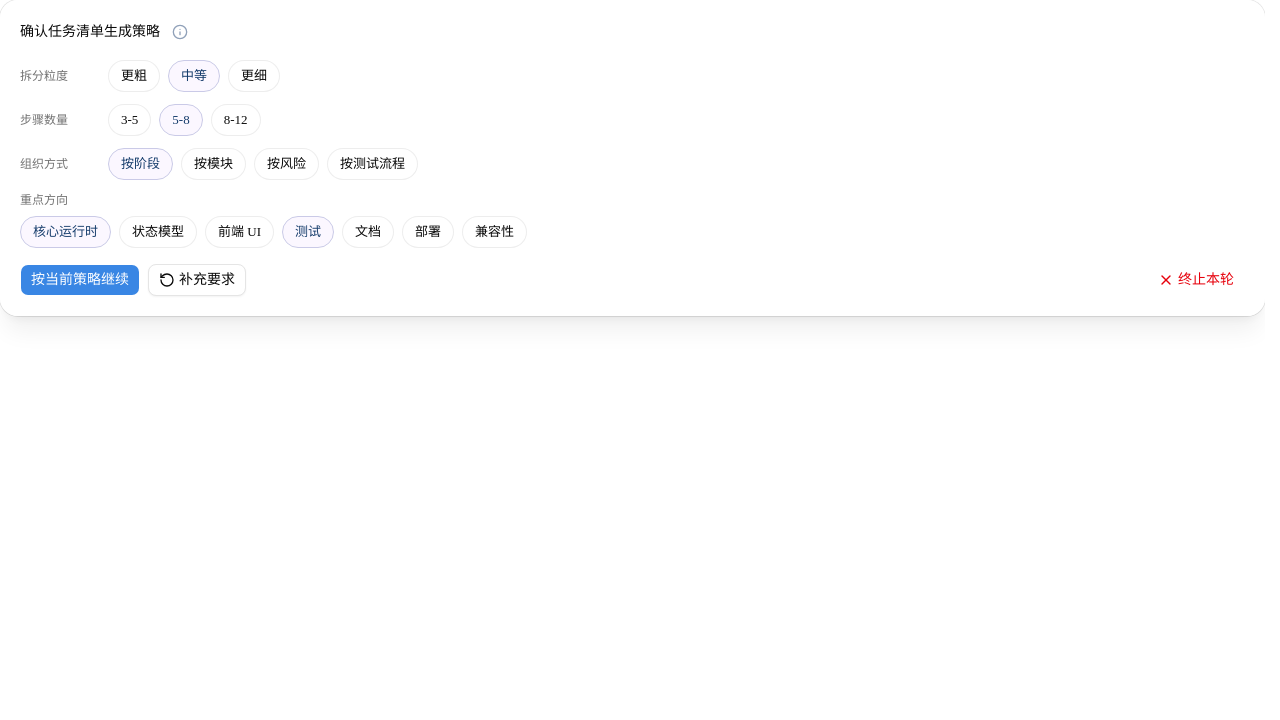
Test: HumanReviewComposerPanel › Strategy Review notes 通过信息图标展示
The width and height of the screenshot is (1280, 720).
Expected: the text "优先保留 stream/artifact 兼容。" is not shown
Click the button named "查看策略说明" at (180, 32), box x1=168 y1=20 x2=192 y2=44
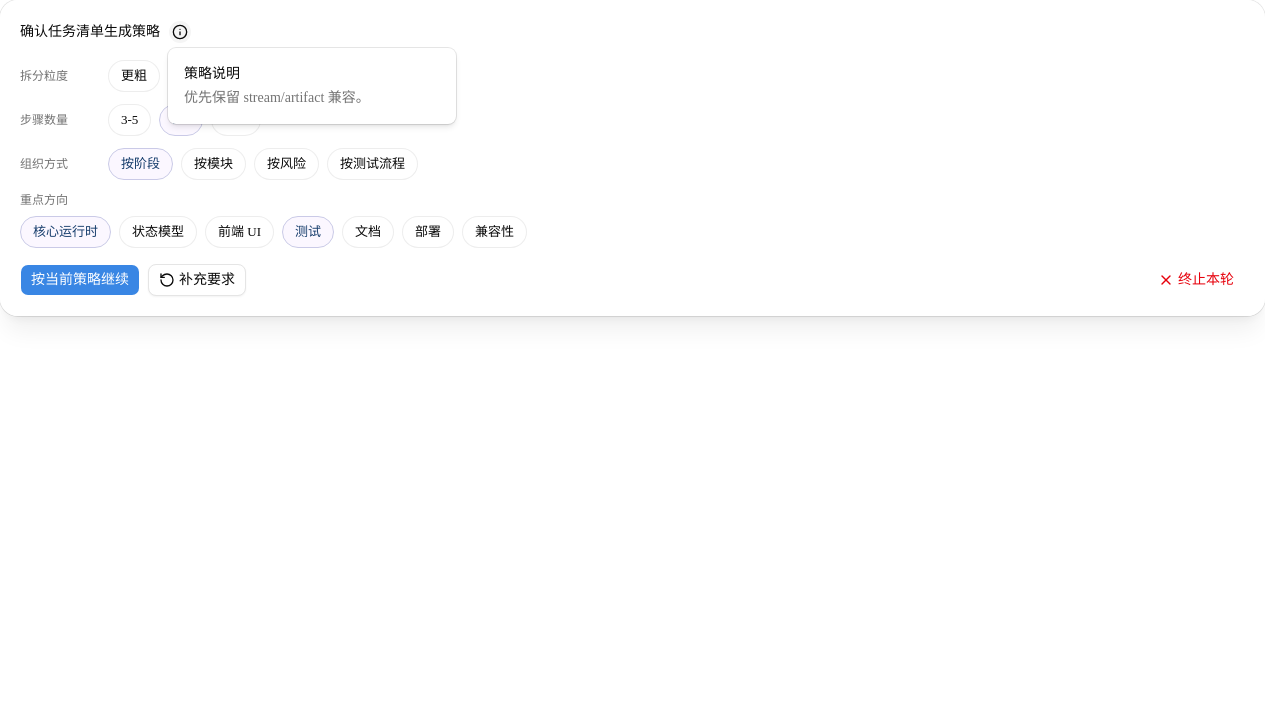
Result: the text "策略说明" is shown at x1=184 y1=66 x2=240 y2=81
Result: the text "优先保留 stream/artifact 兼容。" is shown at x1=184 y1=90 x2=370 y2=105
